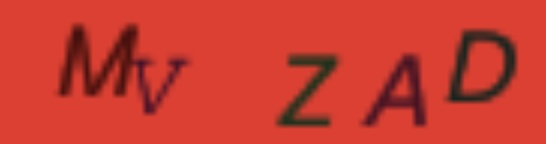A: (359, 50, 432, 129)
D: (440, 25, 522, 106)
M: (53, 20, 140, 101)
V: (132, 55, 192, 117)
Z: (273, 51, 341, 133)
